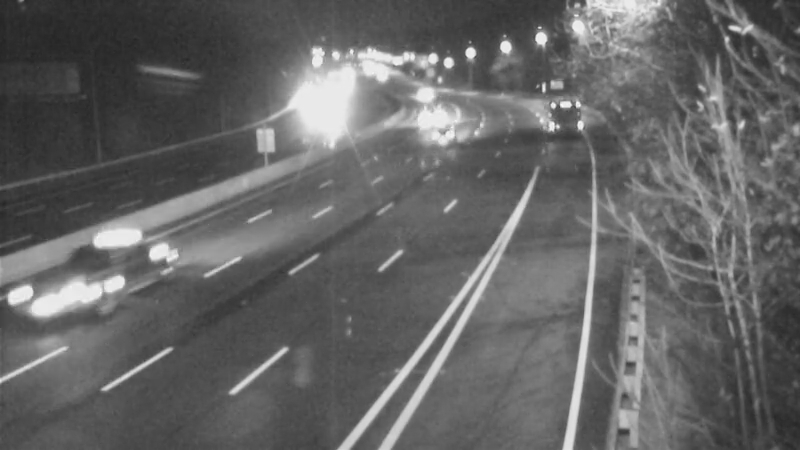vehicle: (42, 243, 122, 323), (399, 70, 449, 120), (528, 86, 578, 136), (404, 89, 454, 139), (417, 107, 467, 157)
